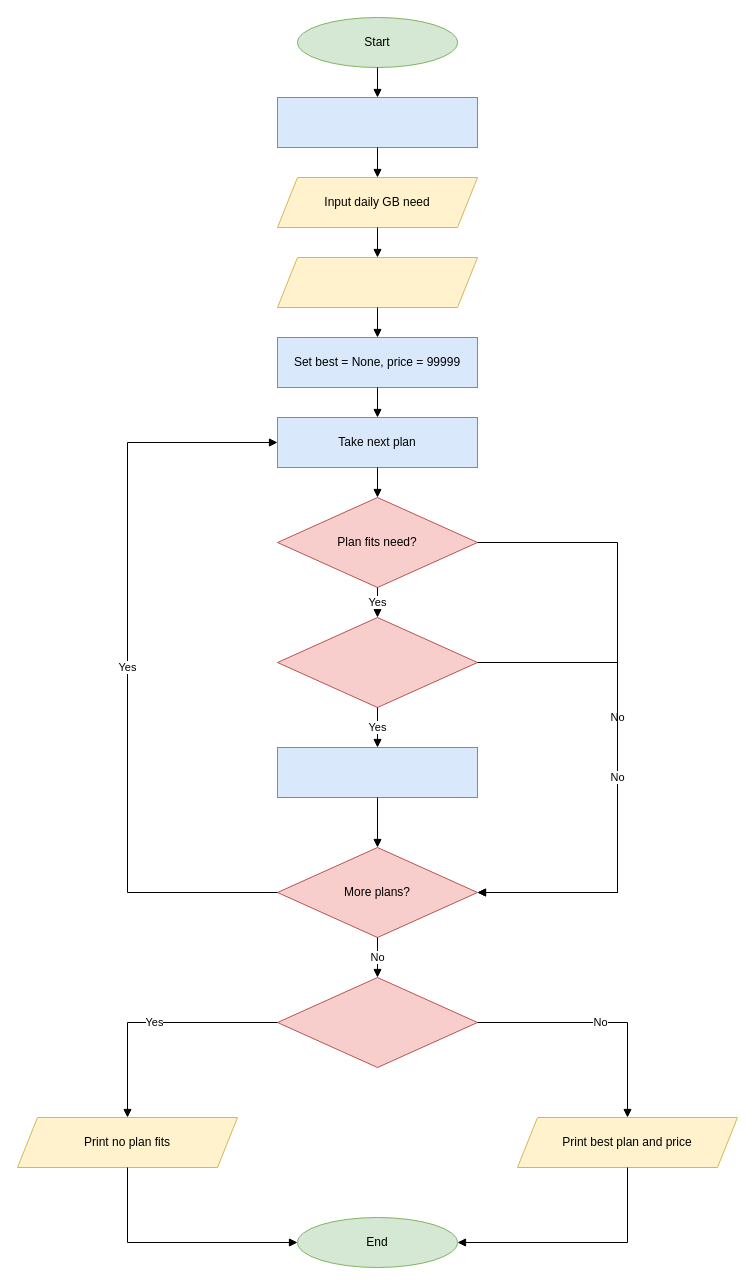
The diagram is 755 pixels wide and 1285 high, and some of its shapes have lost their labels. The shapes that lost their labels are listed below. From the top down, each one's box as (x1, y1, x2, y2) in pixels, then its label:
(276, 96, 478, 148): Define plans A, B, C
(276, 256, 478, 308): Input days needed
(276, 616, 478, 708): Cheaper than best?
(276, 746, 478, 798): Update best plan
(276, 976, 478, 1068): Best is None?
